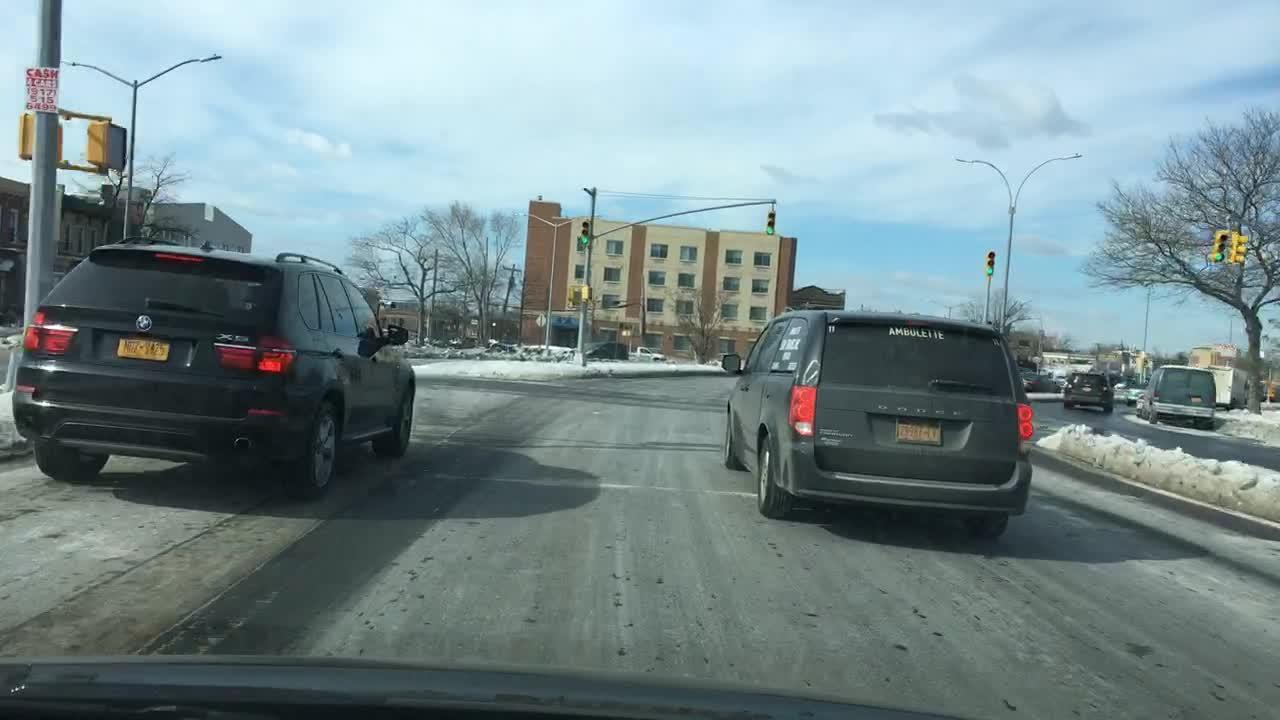bmw: (133, 309, 159, 340)
dodge: (873, 401, 974, 420)
